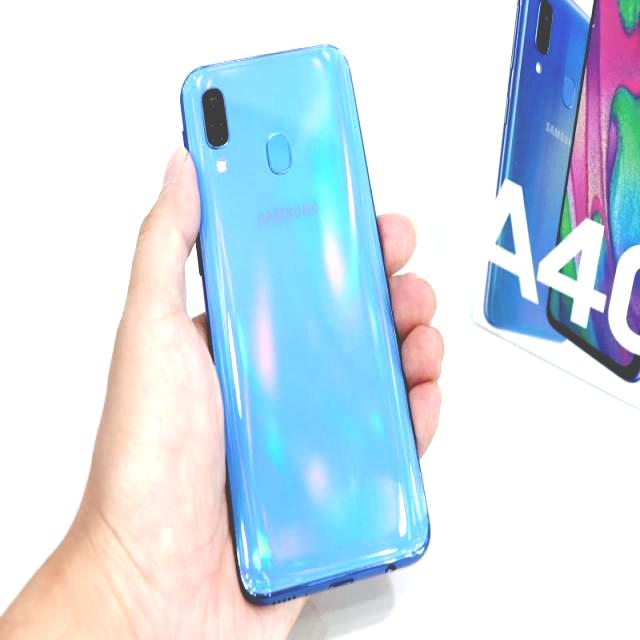lens_back: (206, 121, 228, 147)
phone: (179, 40, 436, 608)
